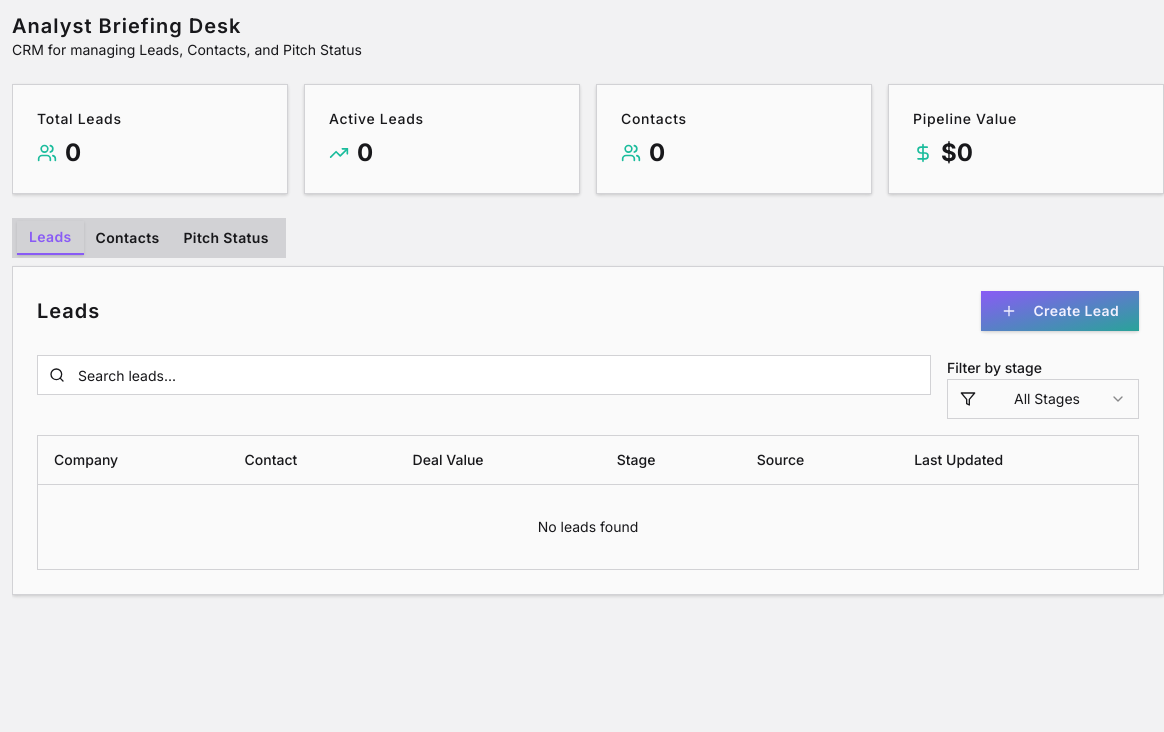
Analyst Briefing Desk - CRM View › Pitch Status Tab Functionality › BUG: Pitch Status tab should display pitch tracking table
The image size is (1164, 732).
Click the tab "Pitch Status" at (226, 238), box left=172, top=222, right=281, bottom=254
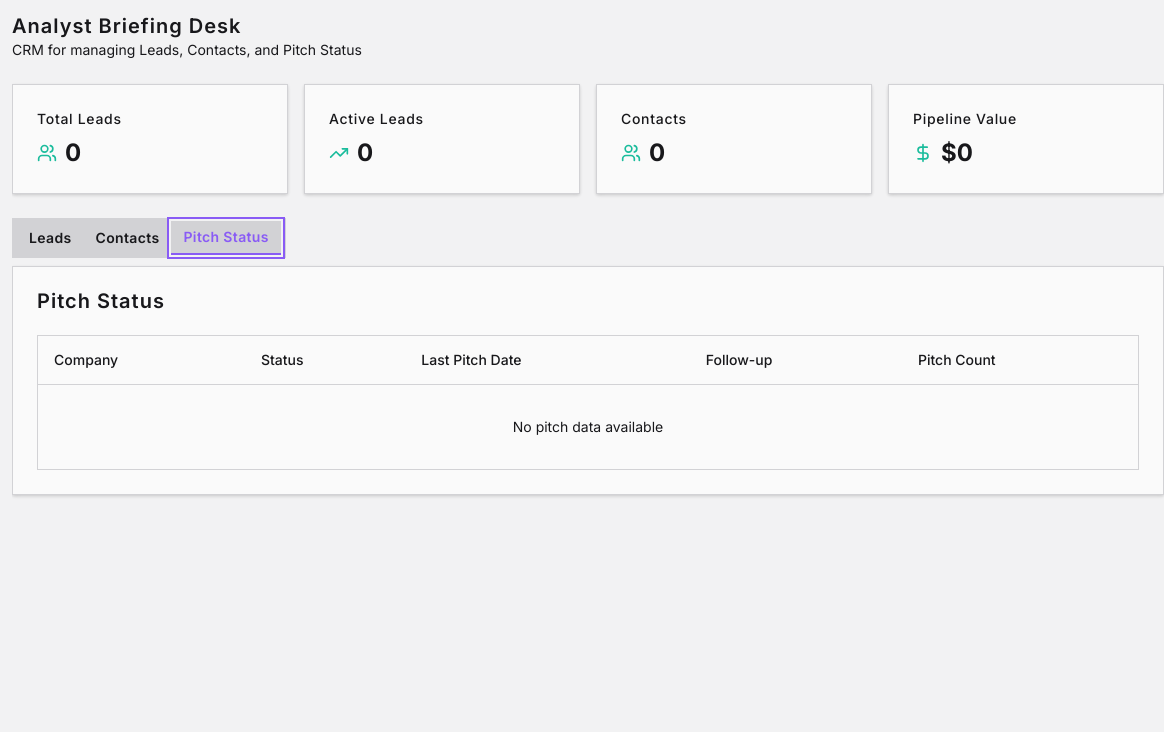
Now the column heading "Last Pitch Date" is shown, box left=405, top=336, right=690, bottom=384
Now the column heading "Follow-up" is shown, box left=690, top=336, right=902, bottom=384
Now the column heading "Pitch Count" is shown, box left=902, top=336, right=1138, bottom=384
